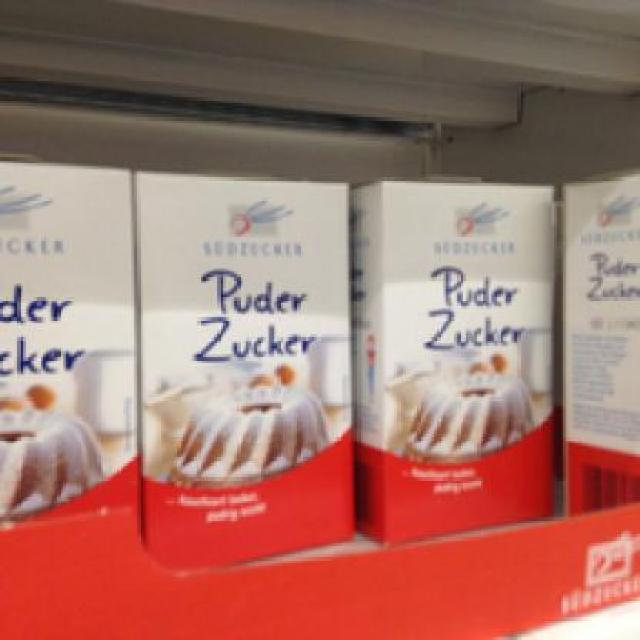Sugar: (128, 166, 352, 568), (346, 171, 554, 540), (0, 154, 140, 532)
